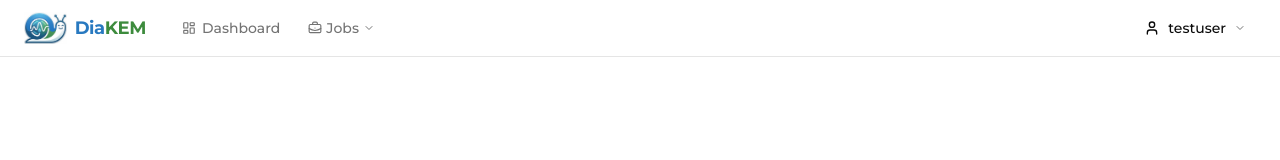
Scenario: Navbar › renders navigation items in jobs dropdown
The width and height of the screenshot is (1280, 160).
Step 1. Click the button "Jobs" → (342, 28), box [296,12,387,44]
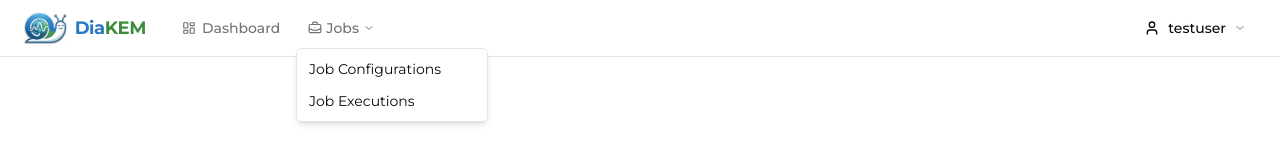
Expected: the menu item "Job Configurations" is shown, [309,60,441,78]
Expected: the menu item "Job Executions" is shown, [309,92,415,110]
